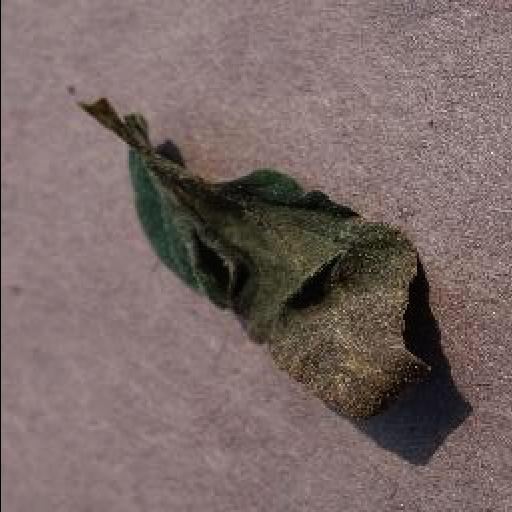disease_tomato: (130, 144, 436, 418)
